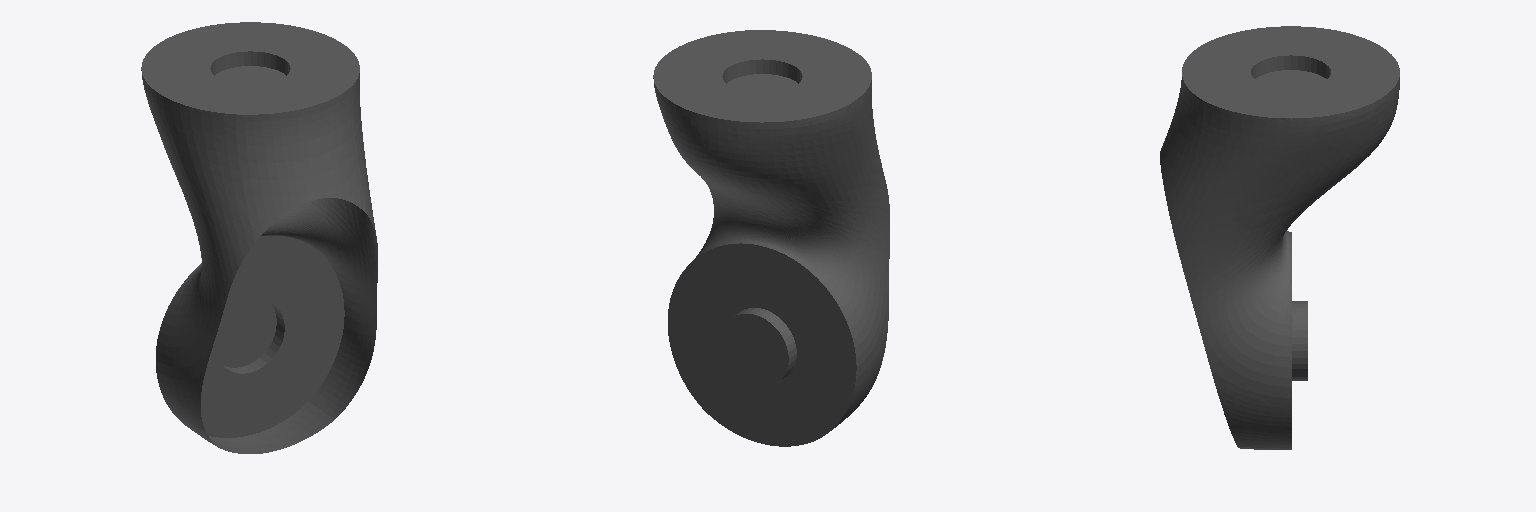
File: link_4_grey.obj
3 renders of one model, left to right at view 1: azimuth 30°, elevation 25°; view 2: azimuth 150°, elevation 25°; view 3: azimuth 270°, elevation 25°, orthographic.
Bounding box in the file's own units: 0.136 × 0.2525 × 0.1497.